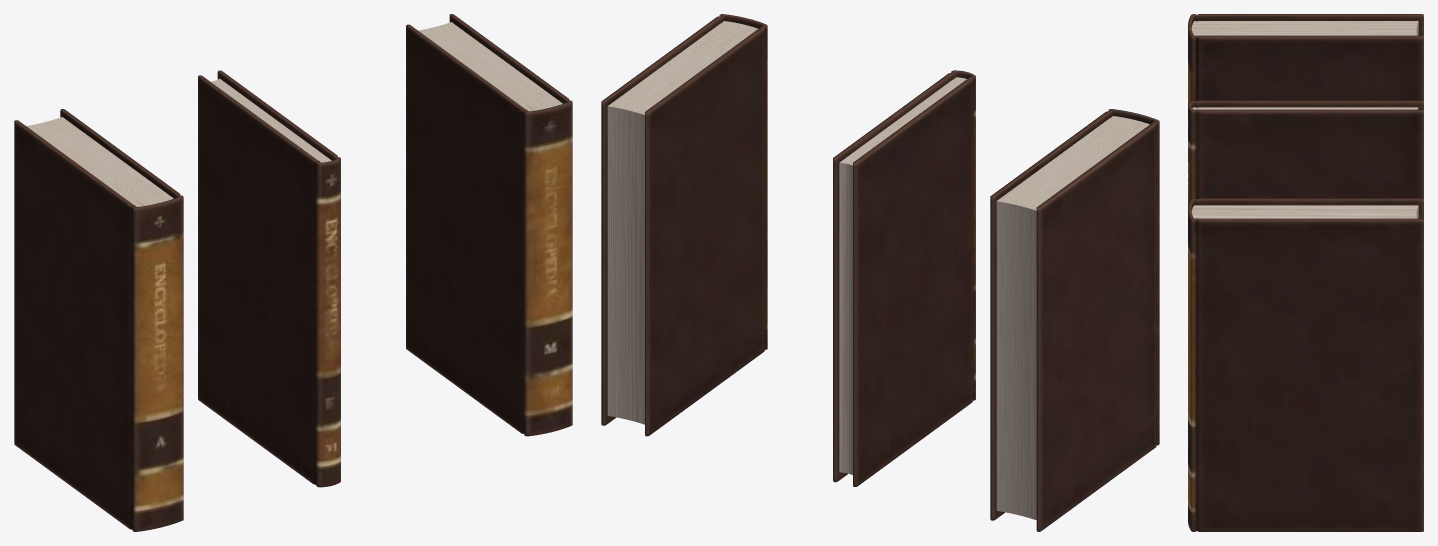
The model's file is book_encyclopedia_set_01.glb.
The picture shows the model from 3 angles, left to right: view 1: azimuth 30°, elevation 25°; view 2: azimuth 150°, elevation 25°; view 3: azimuth 270°, elevation 25°; orthographic projection. The views are drawn at different scales.
Parts seen in each view (by area): view 1: book_encyclopedia_set_01_book01, book_encyclopedia_set_01_book13, book_encyclopedia_set_01_book06; view 2: book_encyclopedia_set_01_book01, book_encyclopedia_set_01_book13, book_encyclopedia_set_01_book06; view 3: book_encyclopedia_set_01_book13, book_encyclopedia_set_01_book06, book_encyclopedia_set_01_book01.
Part boxes in pixels (x1,y1,x2,y2): book_encyclopedia_set_01_book01: [14, 109, 183, 531]; book_encyclopedia_set_01_book13: [406, 14, 572, 436]; book_encyclopedia_set_01_book06: [198, 70, 340, 487]; book_encyclopedia_set_01_book01: [990, 109, 1159, 531]; book_encyclopedia_set_01_book13: [601, 14, 767, 436]; book_encyclopedia_set_01_book06: [833, 70, 975, 486]; book_encyclopedia_set_01_book13: [1188, 198, 1423, 531]; book_encyclopedia_set_01_book06: [1188, 100, 1423, 206]; book_encyclopedia_set_01_book01: [1188, 14, 1423, 104].
Size of the model in its own units: 0.3378 by 0.2374 by 0.1631.
Materials: 2 (2 with a texture image).
